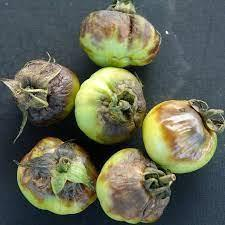tomato late blight: (17, 135, 108, 218), (4, 54, 81, 144), (142, 100, 225, 176), (96, 149, 178, 225), (75, 68, 148, 146), (80, 1, 162, 69)
